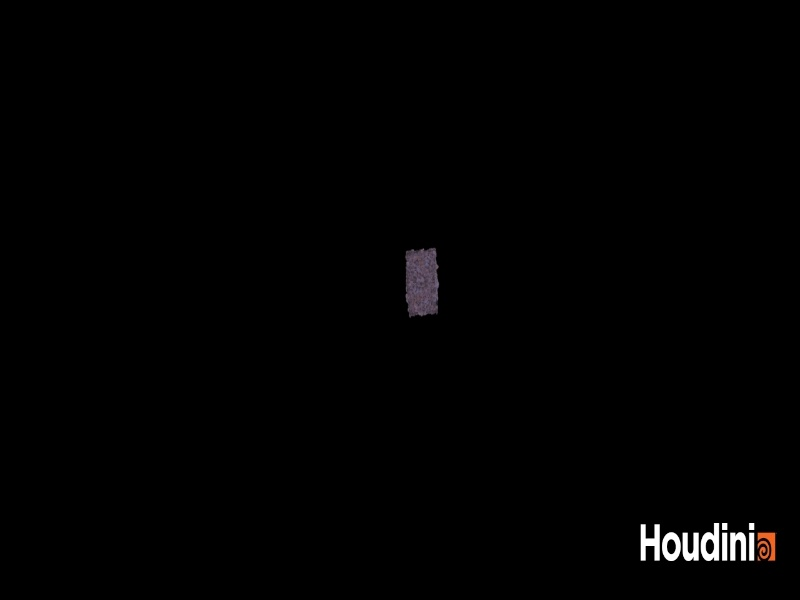waste: (399, 238, 448, 326)
